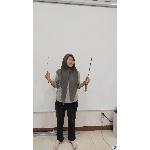Celurit: (44, 56, 50, 84)
Golok: (84, 55, 94, 93)
